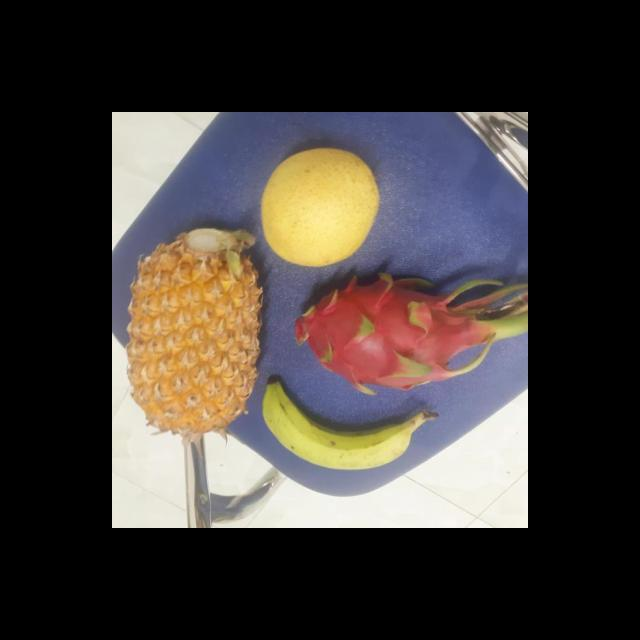banana: (260, 382, 420, 471)
pear: (259, 148, 382, 268)
pineapple: (127, 223, 266, 432)
pitaya: (278, 273, 474, 392)
